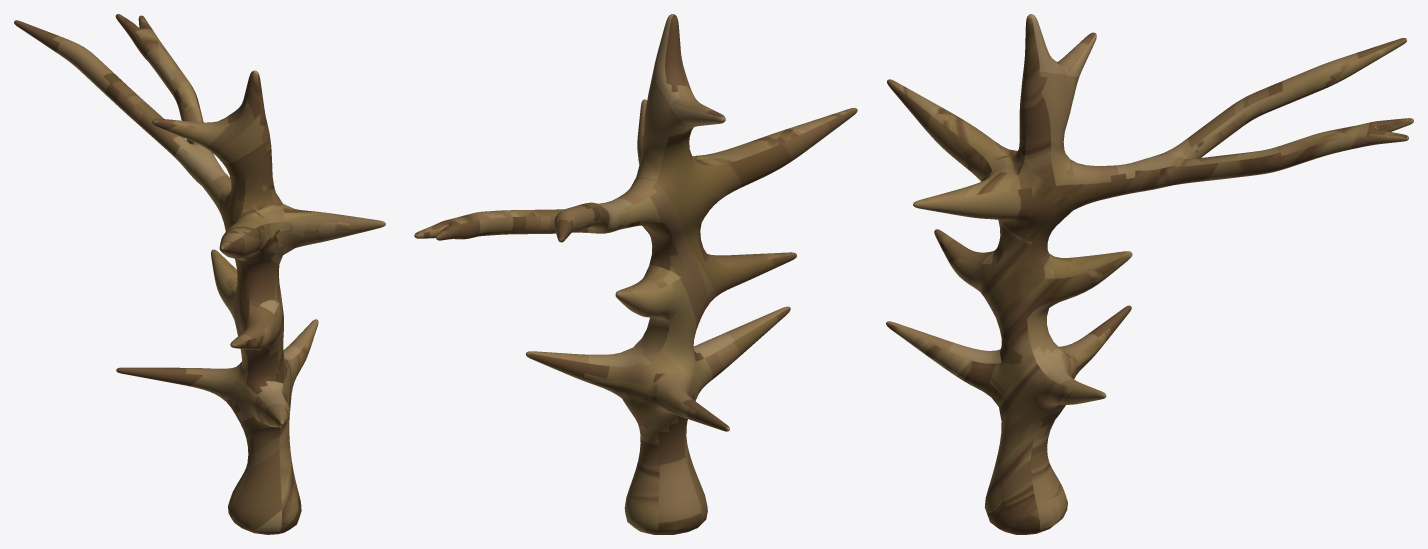
The model's file is Tree3.fbx.
3 views of the same model, side by side, from view 1: azimuth 30°, elevation 25°; view 2: azimuth 150°, elevation 25°; view 3: azimuth 270°, elevation 25° (orthographic). The views are drawn at different scales.
Parts seen in each view (by area): view 1: Tree3; view 2: Tree3; view 3: Tree3.
Part boxes in pixels (<box>): Tree3: <box>14,14,385,534</box>; Tree3: <box>414,14,857,534</box>; Tree3: <box>886,14,1413,534</box>.
Bounding box in the file's own units: 150 × 336 × 317.
